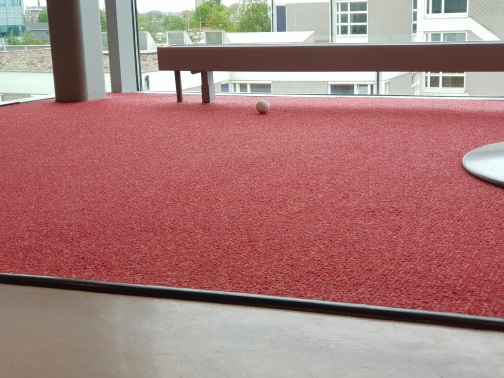egg: (255, 99, 270, 114)
